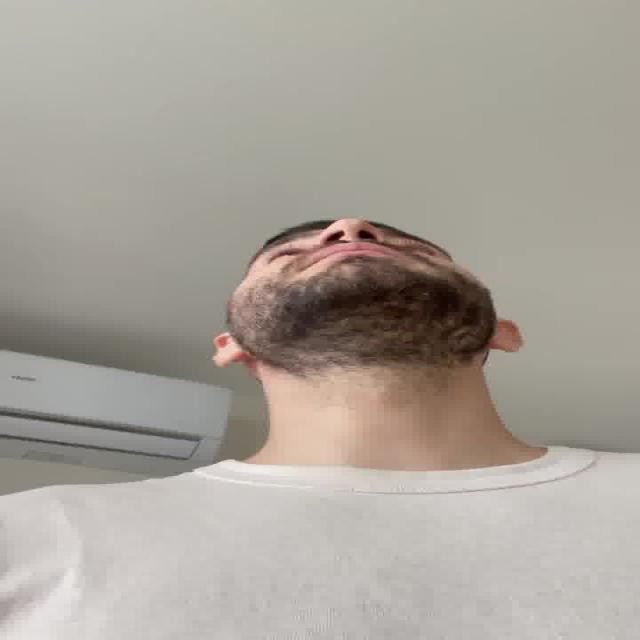earlobe: (481, 318, 528, 353), (209, 331, 245, 368)
